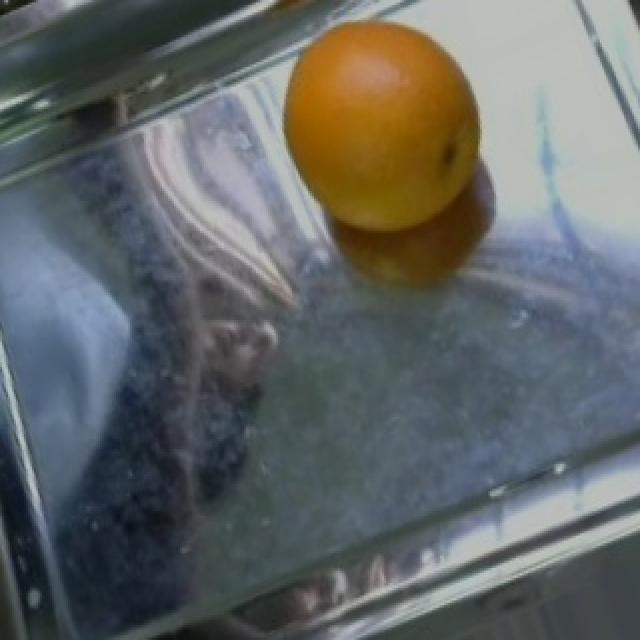Fruit: (260, 12, 520, 256)
